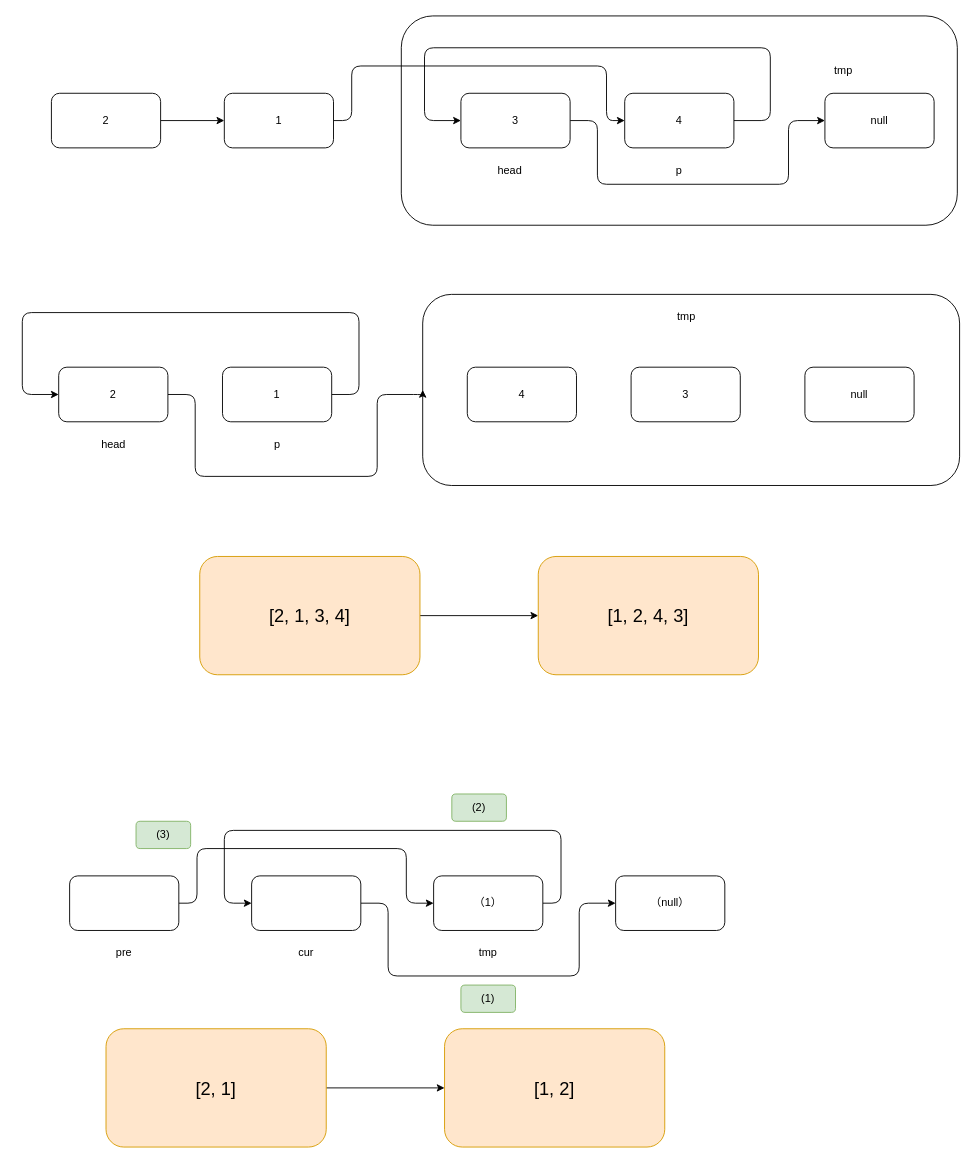
Some shapes in this 976 by 1163 pixel diagram are drawn without their labels. The shapes that lost their labels are listed below. From the top down, each one's centre as x and y in pixels, then its label:
At [124,902]: "dummy（0）".
At [306,902]: "head（2）".
